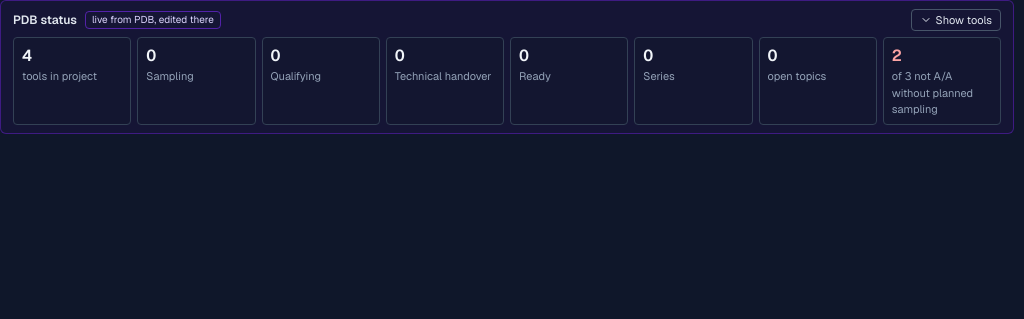
Test case: PdbStatusBox › counts tools that are not A/A and have no sampling planned, in red
Click the button with test id "pdb-step-unplanned".
click(942, 81)  # box [883,37,1001,124]
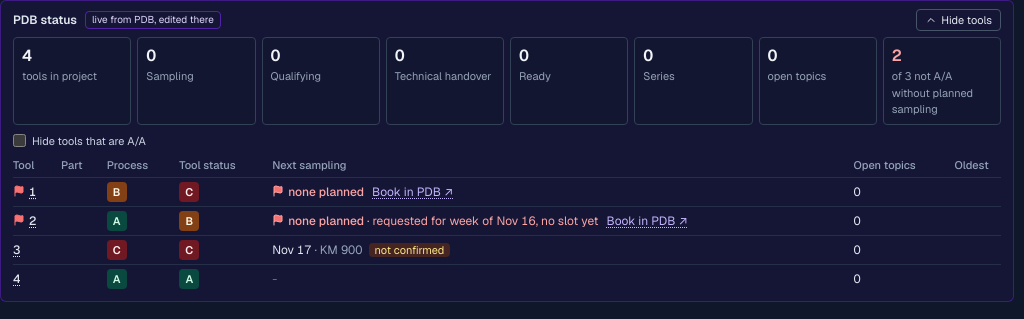
Expected: the element with test id "pdb-next-sampling" shows "none planned", [288,184,364,200]
Expected: the 1st element with test id "pdb-tool-flag" is shown, [13,184,29,200]
Expected: the row with test id "pdb-tool-row" shows "none planned · requested for week of Nov 16, no slot yet", [13,206,1001,236]
# hide A/A: the fourth tool goes, and the choice is kept
Click the checkbox with test id "pdb-hide-aa".
click(20, 141)  # box [13,134,26,147]
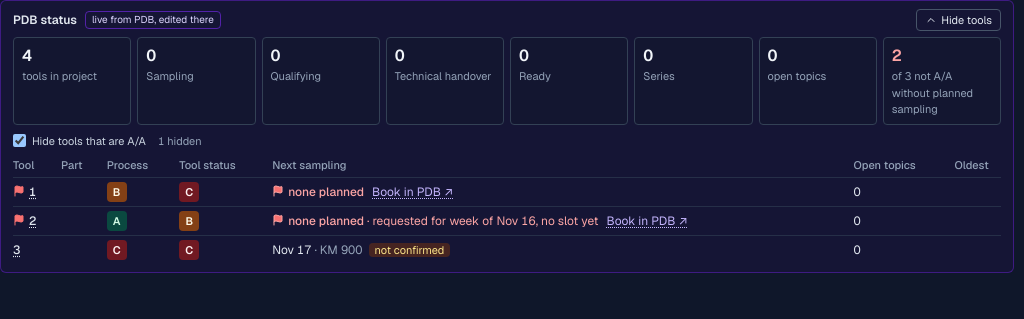
Expected: the number of rows with test id "pdb-tool-row" is 3, [13,178,1001,206]; [13,206,1001,236]; [13,236,1001,264]
Expected: the element with test id "pdb-status-box" shows "1 hidden"
